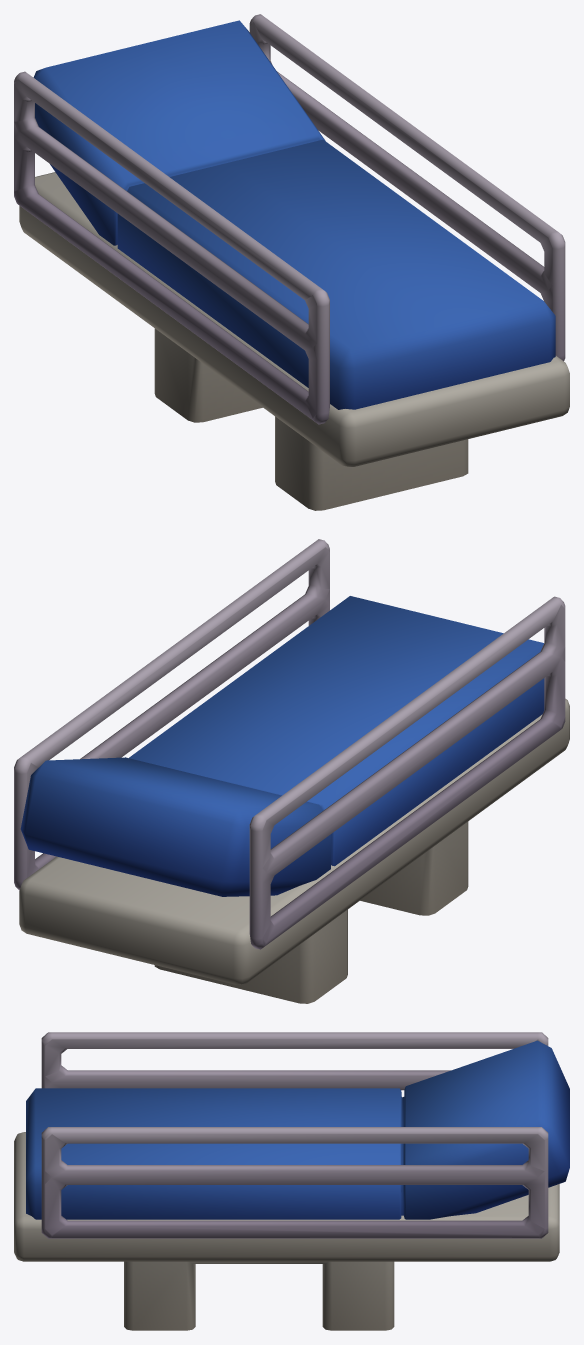
File: bed.fbx
The picture shows the model from 3 angles, top to bottom: view 1: azimuth 30°, elevation 25°; view 2: azimuth 150°, elevation 25°; view 3: azimuth 270°, elevation 25°; orthographic projection. The views are drawn at different scales.
Visible parts, largest first — view 1: bed; view 2: bed; view 3: bed.
Boxes of the visible parts, box(x1,y1,x2,y2) form: bed: box(14, 14, 569, 510); bed: box(14, 539, 569, 1003); bed: box(14, 1032, 569, 1330).
Bounding box in the file's own units: 111 × 262 × 114.
